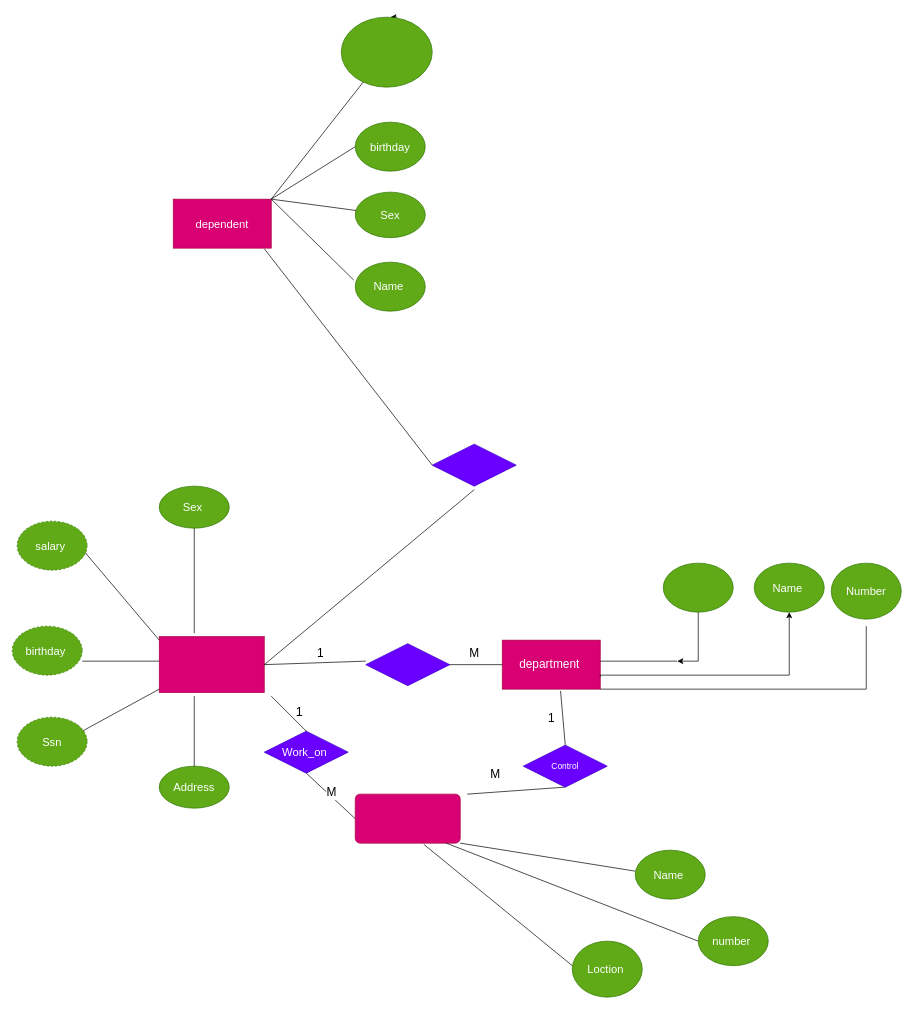
Some shapes in this 914 by 1009 pixel diagram are drawn without their labels. Each missing label, with the centre of its shape:
department maneger: the point at 698,587
employees: the point at 211,664
Manage: the point at 474,464
Project: the point at 407,818
Relationship to empoyee: the point at 386,51
Works: the point at 407,664
